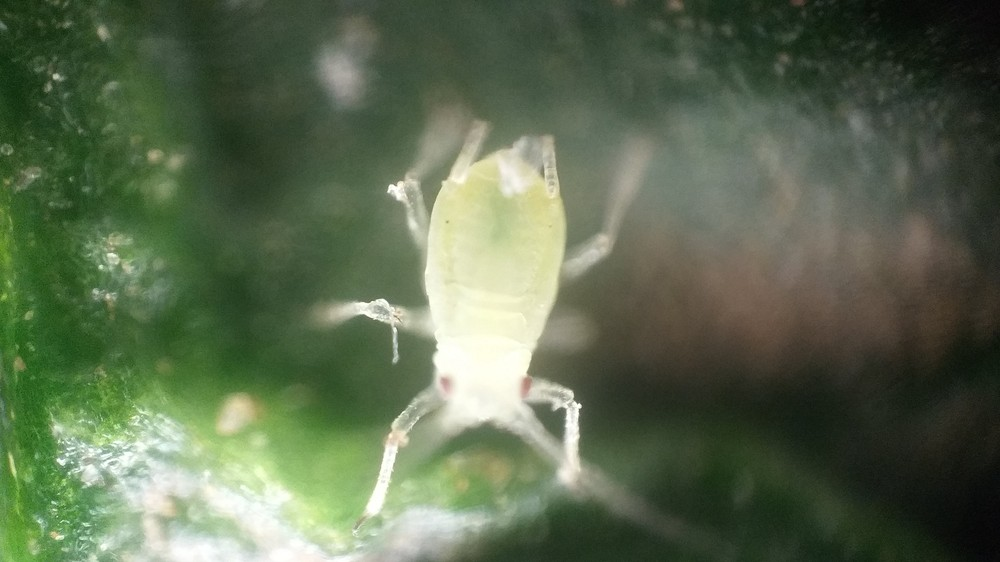Pulgon: (311, 126, 679, 538)
